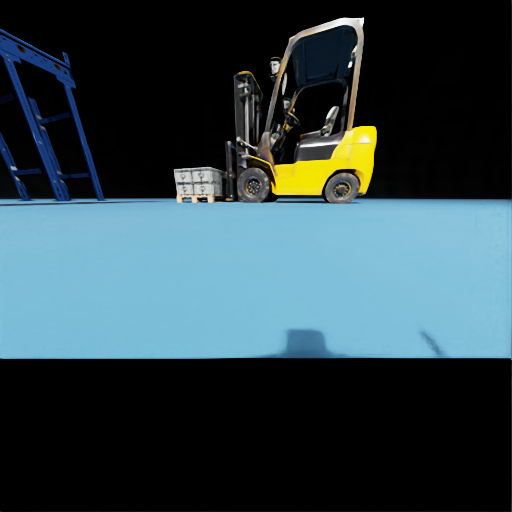transportation_area: (193, 182, 226, 194), (34, 54, 35, 55)
